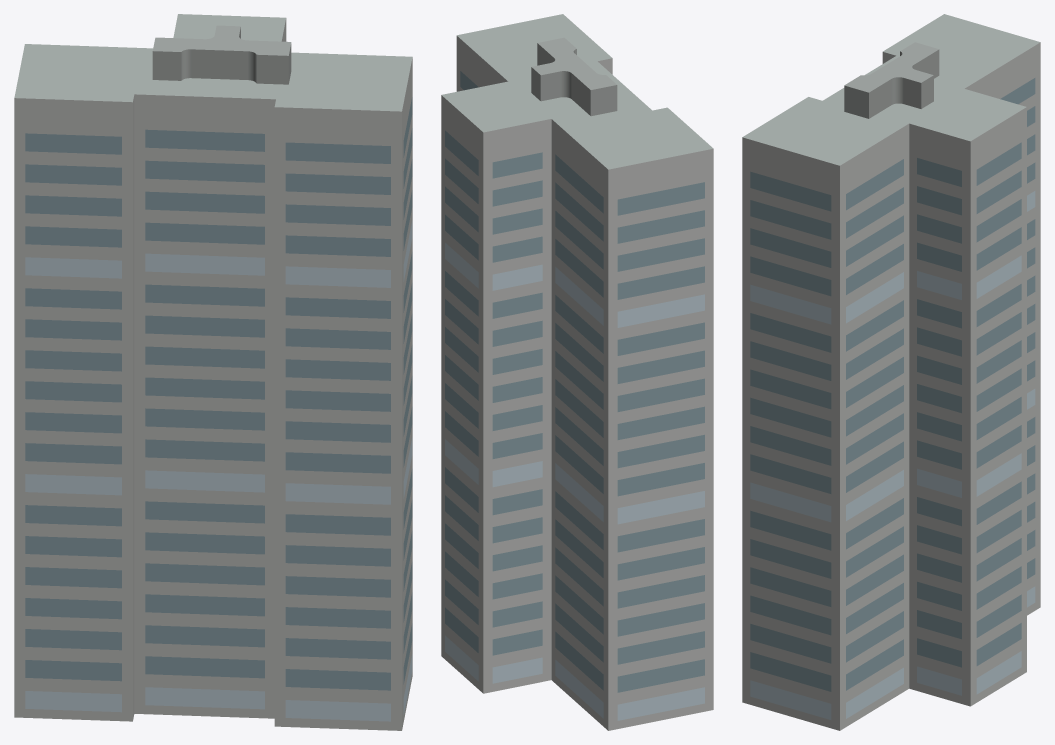
Rendered from fallback-lake-palace-129.glb.
3 views of the same model, side by side, from view 1: azimuth 30°, elevation 25°; view 2: azimuth 150°, elevation 25°; view 3: azimuth 270°, elevation 25° (orthographic). The views are drawn at different scales.
Visible parts, largest first — view 1: fallback-lake-palace-129; view 2: fallback-lake-palace-129; view 3: fallback-lake-palace-129.
Part boxes in pixels (left/top/right/bottom): fallback-lake-palace-129: left=14, top=14, right=412, bottom=730; fallback-lake-palace-129: left=441, top=14, right=713, bottom=730; fallback-lake-palace-129: left=742, top=14, right=1040, bottom=730.
Size of the model in its own units: 29.73 by 54 by 24.7.
